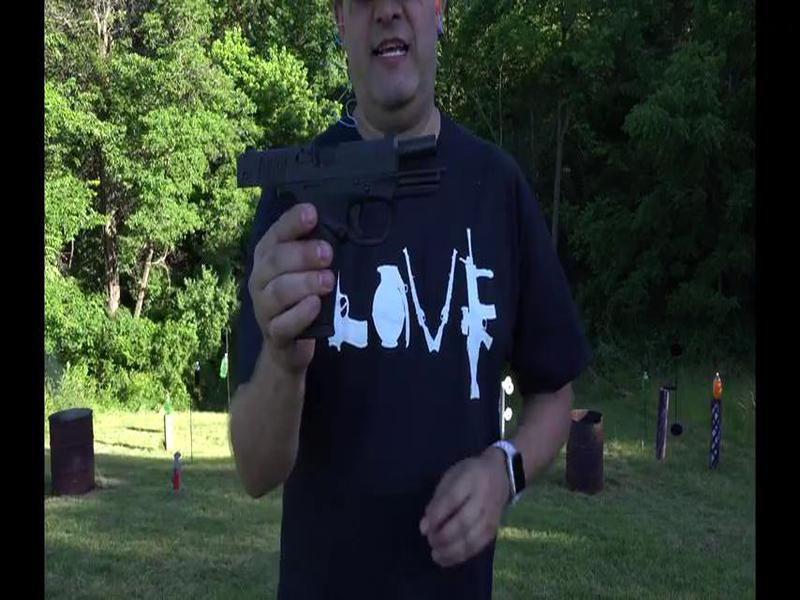Pistola: (222, 127, 478, 334)
